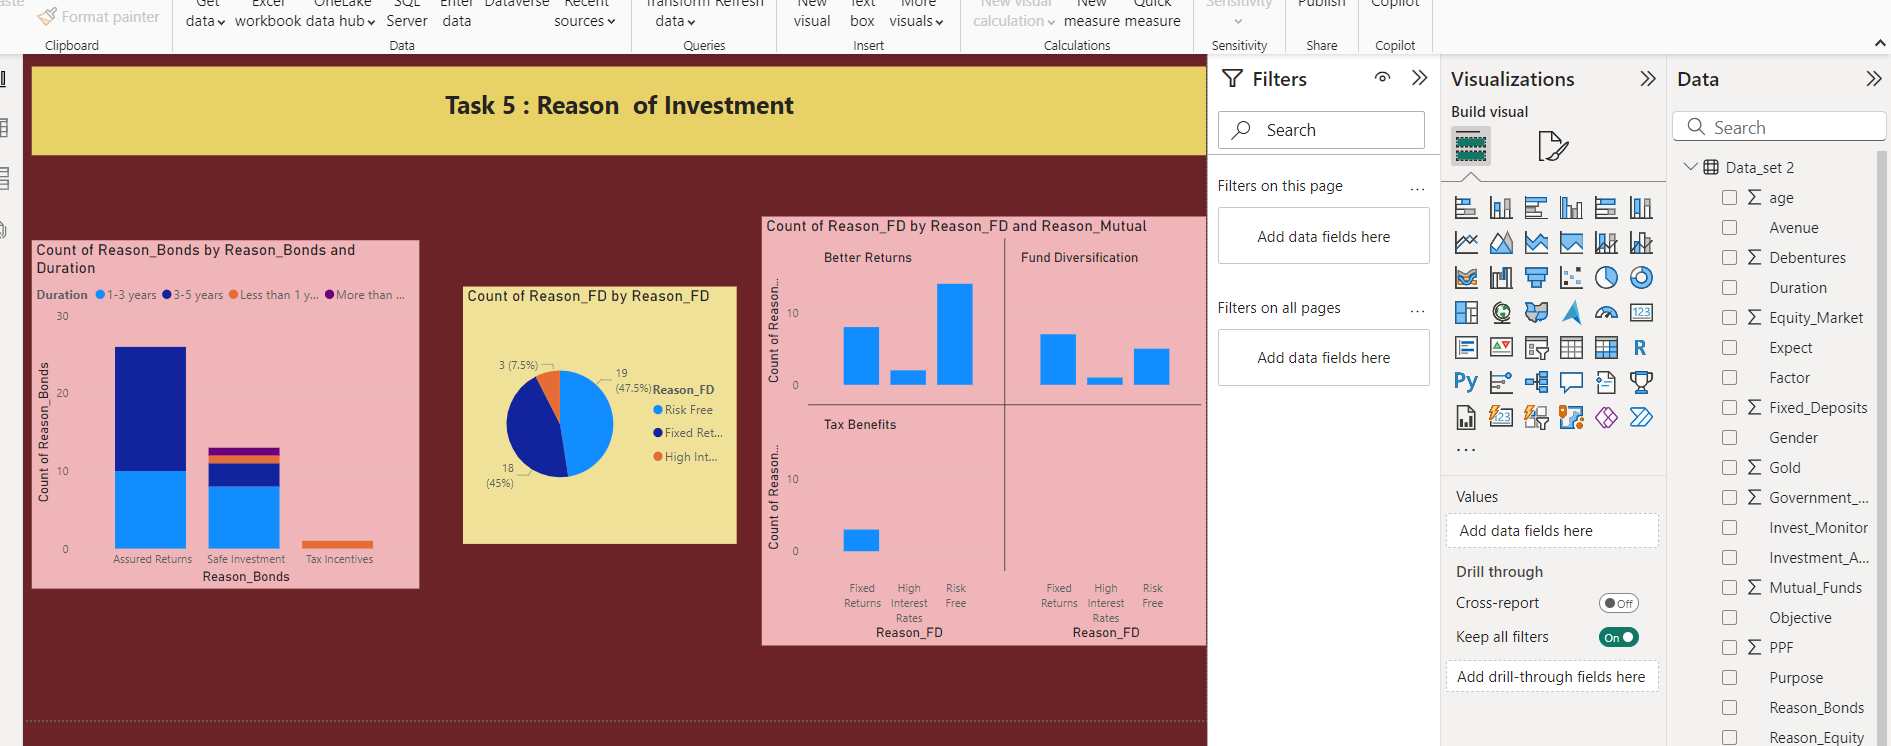

The dashboard page shown, as its layout file describes it:
{"tool":"powerbi","page":{"name":"Page 5","canvas":[1280,720],"ordinal":4},"visuals":[{"type":"textbox","box":[9.6,13.7,1270.7,96.1],"z":0},{"type":"columnChart","fields":{"Category":["Data_set 2.Reason_Bonds"],"Series":["Data_set 2.Duration"],"Y":["CountNonNull(Data_set 2.Reason_Bonds)"]},"box":[9.5,201.4,419.1,377.2],"z":1000},{"type":"pieChart","fields":{"Category":["Data_set 2.Reason_FD"],"Y":["CountNonNull(Data_set 2.Reason_FD)"]},"box":[475.9,251.5,296.1,278.5],"z":2000},{"type":"lineStackedColumnComboChart","fields":{"Category":["Data_set 2.Reason_FD"],"Rows":["Data_set 2.Reason_Mutual"],"Y":["CountNonNull(Data_set 2.Reason_FD)"]},"box":[799,175.8,481.3,463.7],"z":3000}]}

Visuals, with their boxes on the page's 1280x720 design canvas (x1, y1, x2, y2). These are canvas units, not pixel positions in the 1891x746 screenshot, which may show the page scaled, cropped or inside an application window:
textbox: (10, 14, 1280, 110)
columnChart - Data_set 2.Reason_Bonds x Data_set 2.Duration: (10, 201, 429, 579)
pieChart - Data_set 2.Reason_FD x CountNonNull(Data_set 2.Reason_FD): (476, 252, 772, 530)
lineStackedColumnComboChart - Data_set 2.Reason_FD x Data_set 2.Reason_Mutual: (799, 176, 1280, 640)
